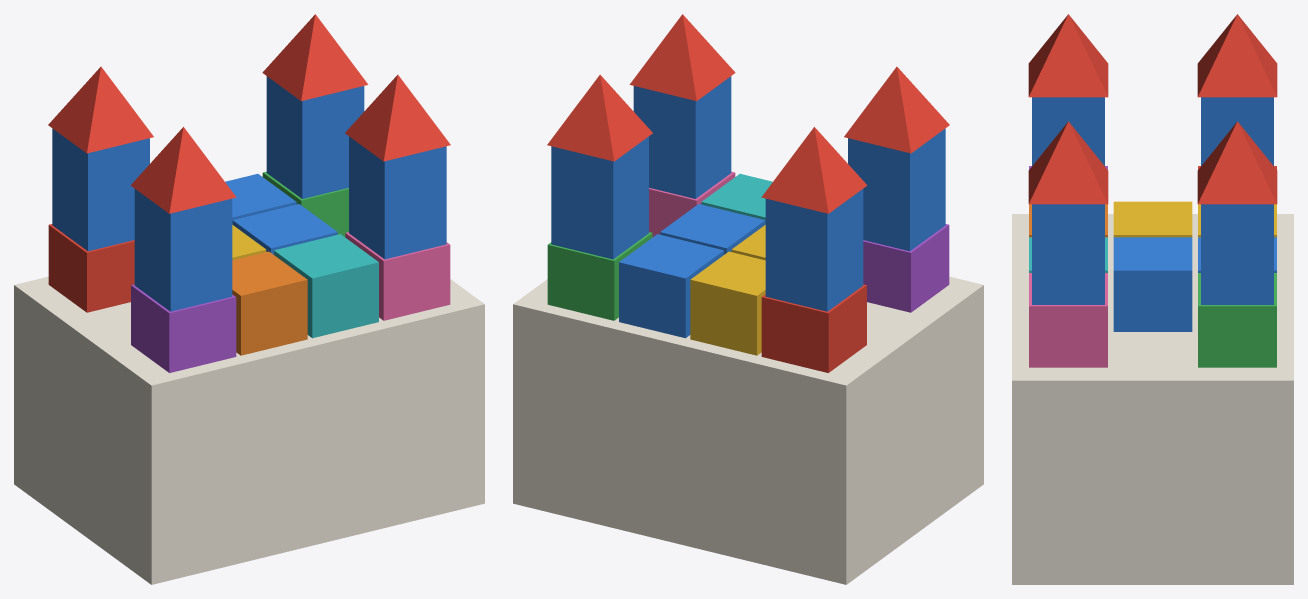
File: block_castle.glb
3 renders of one model, left to right at view 1: azimuth 30°, elevation 25°; view 2: azimuth 150°, elevation 25°; view 3: azimuth 270°, elevation 25°, orthographic. The views are drawn at different scales.
Visible parts, largest first — view 1: table_castle_table, towers, roofs, blocks_6, blocks_4, blocks_5, blocks_0, blocks_2, blocks_7, blocks_3, blocks_1; view 2: table_castle_table, towers, roofs, blocks_2, blocks_1, blocks_0, blocks_4, blocks_3, blocks_6, blocks_7; view 3: table_castle_table, towers, roofs, blocks_2, blocks_3, blocks_7, blocks_1.
Boxes of the visible parts, bbox=[...] form: table_castle_table: bbox=[14, 276, 484, 584]; towers: bbox=[52, 76, 446, 311]; roofs: bbox=[48, 14, 450, 213]; blocks_6: bbox=[274, 234, 378, 338]; blocks_4: bbox=[131, 284, 236, 372]; blocks_5: bbox=[232, 251, 307, 355]; blocks_0: bbox=[48, 224, 134, 312]; blocks_2: bbox=[225, 173, 337, 254]; blocks_7: bbox=[345, 232, 450, 320]; blocks_3: bbox=[262, 171, 348, 236]; blocks_1: bbox=[232, 225, 266, 260]; table_castle_table: bbox=[513, 276, 983, 584]; towers: bbox=[551, 76, 945, 311]; roofs: bbox=[547, 14, 949, 213]; blocks_2: bbox=[619, 204, 765, 338]; blocks_1: bbox=[690, 225, 765, 355]; blocks_0: bbox=[761, 284, 866, 372]; blocks_4: bbox=[863, 224, 949, 312]; blocks_3: bbox=[547, 232, 652, 320]; blocks_6: bbox=[701, 173, 772, 224]; blocks_7: bbox=[649, 171, 735, 236]; table_castle_table: bbox=[1012, 214, 1293, 584]; towers: bbox=[1032, 97, 1273, 304]; roofs: bbox=[1028, 14, 1277, 204]; blocks_2: bbox=[1113, 237, 1276, 331]; blocks_3: bbox=[1198, 273, 1276, 367]; blocks_7: bbox=[1029, 273, 1107, 367]; blocks_1: bbox=[1113, 201, 1276, 237].
Bounding box in the file's own units: 1.4 × 1.7 × 1.
